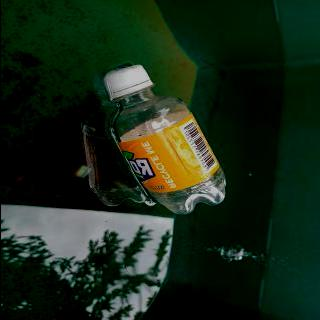bottle: (96, 61, 232, 217)
